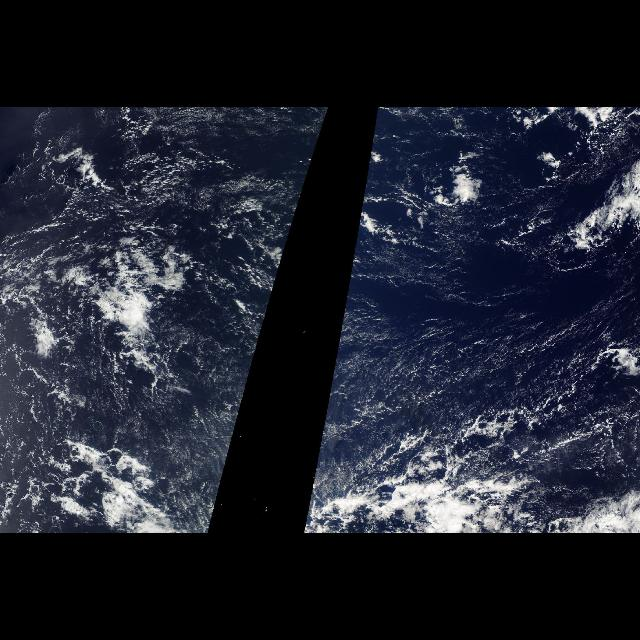Gravel: (0, 255, 144, 532), (345, 406, 639, 496)
Sugar: (12, 130, 294, 526), (312, 246, 626, 514)
